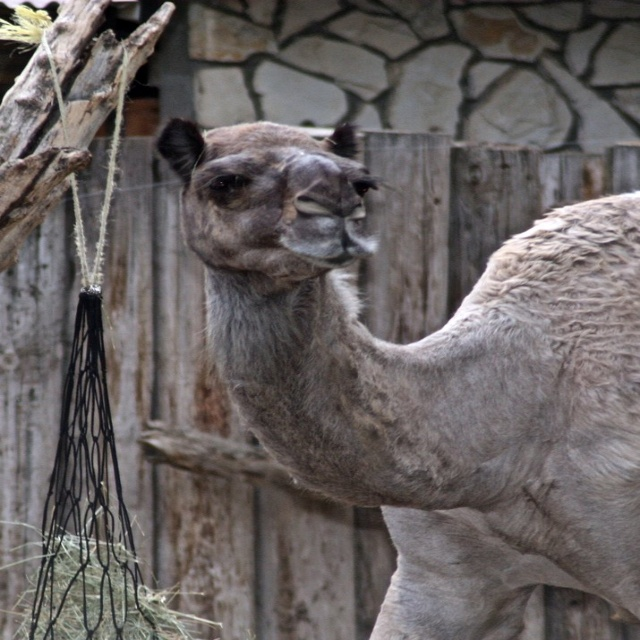Camel: (152, 119, 639, 640)
